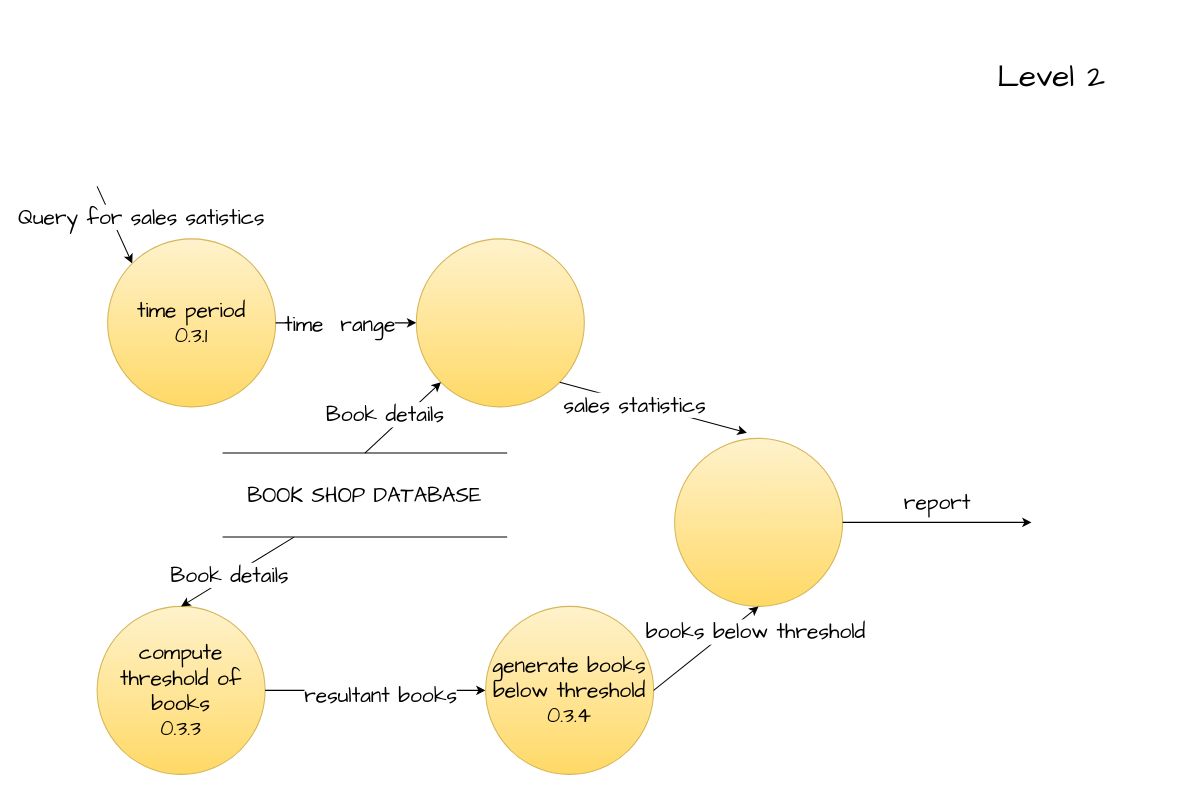
The diagram is 1185 pixels wide and 793 high, and some of its shapes have lost their labels. Each missing label, with the box of its shape:
Display stats 0.3.5: (674, 437, 843, 606)
generate statistics between the given time interval 0.3.2: (415, 238, 584, 407)
